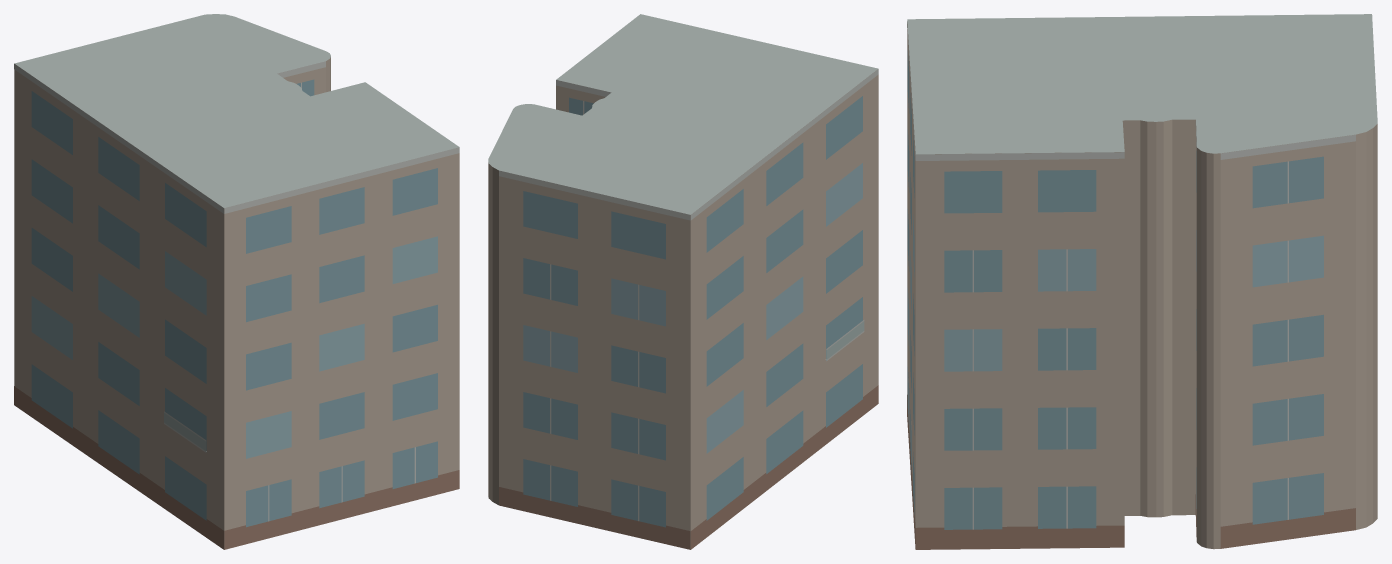
The model's file is survey-upis-32877818.glb.
3 views of the same model, side by side, from view 1: azimuth 30°, elevation 25°; view 2: azimuth 150°, elevation 25°; view 3: azimuth 270°, elevation 25° (orthographic). The views are drawn at different scales.
Parts seen in each view (by area): view 1: survey-upis-32877818.tmp; view 2: survey-upis-32877818.tmp; view 3: survey-upis-32877818.tmp.
Part boxes in pixels (left/top/right/bottom): survey-upis-32877818.tmp: left=14, top=14, right=459, bottom=549; survey-upis-32877818.tmp: left=488, top=14, right=878, bottom=549; survey-upis-32877818.tmp: left=907, top=14, right=1377, bottom=549.
Bounding box in the file's own units: 10.89 × 14.3 × 15.43.
